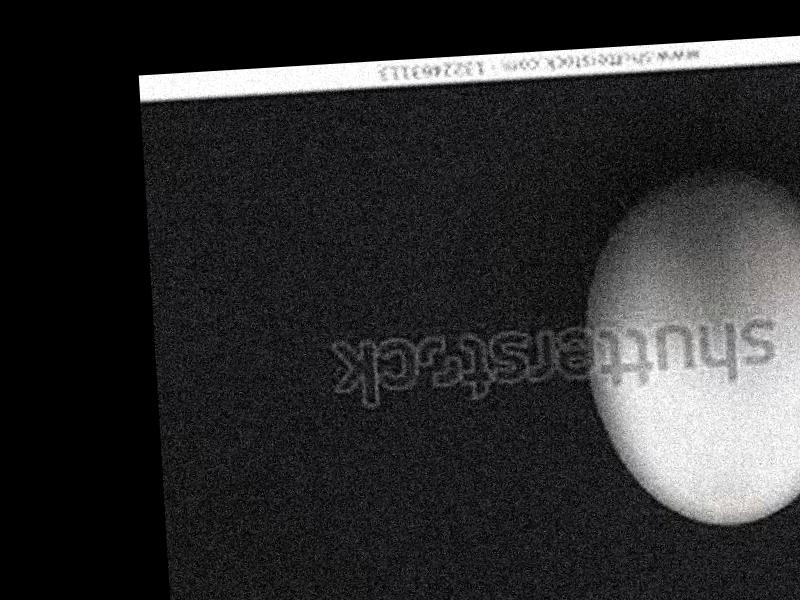Eggs: (583, 165, 800, 536)
